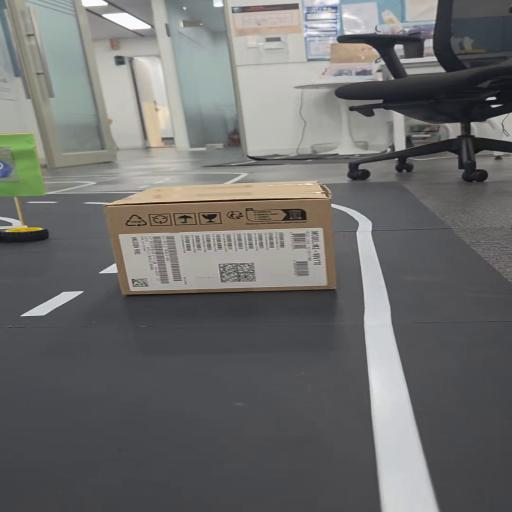Box: (108, 180, 344, 295)
